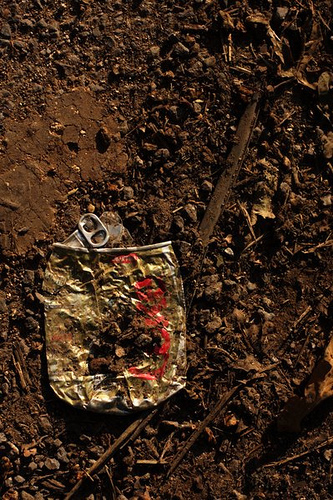litter: (41, 210, 189, 416)
